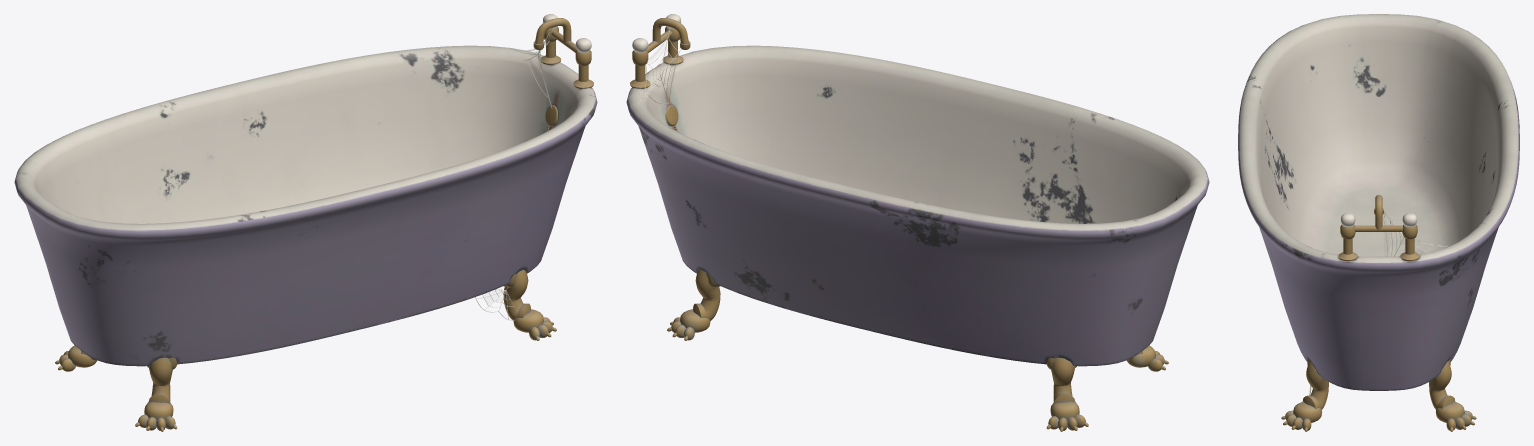
File: clawfoot-bathtub.glb
3 renders of one model, left to right at view 1: azimuth 30°, elevation 25°; view 2: azimuth 150°, elevation 25°; view 3: azimuth 270°, elevation 25°, orthographic. The views are drawn at different scales.
Parts seen in each view (by area): view 1: clawfoot-bathtub_body; view 2: clawfoot-bathtub_body, clawfoot-bathtub_web; view 3: clawfoot-bathtub_body, clawfoot-bathtub_web.
Boxes of the visible parts, x1=… form: clawfoot-bathtub_body: x1=14, y1=14, x2=597, y2=431; clawfoot-bathtub_body: x1=626, y1=14, x2=1209, y2=431; clawfoot-bathtub_web: x1=638, y1=27, x2=681, y2=108; clawfoot-bathtub_body: x1=1238, y1=14, x2=1519, y2=431; clawfoot-bathtub_web: x1=1382, y1=208, x2=1449, y2=256.
Bounding box in the file's own units: 1.62 × 0.7742 × 0.774.
Materials: 5 (1 with a texture image).
